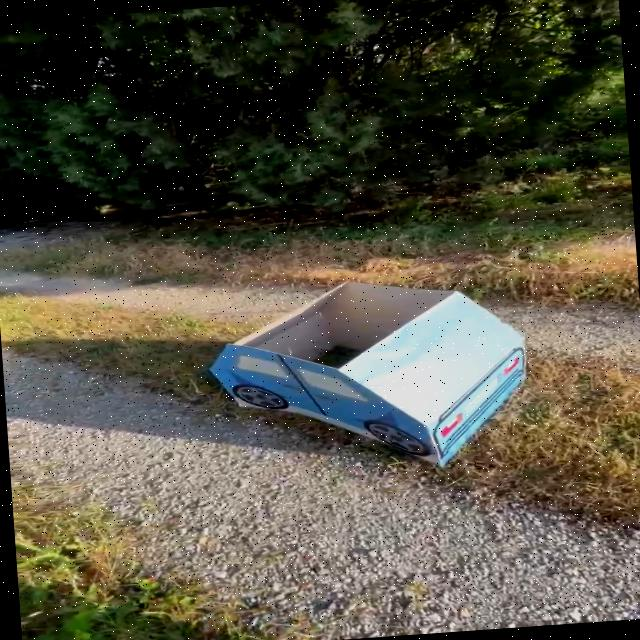blue_car: (181, 240, 562, 496)
